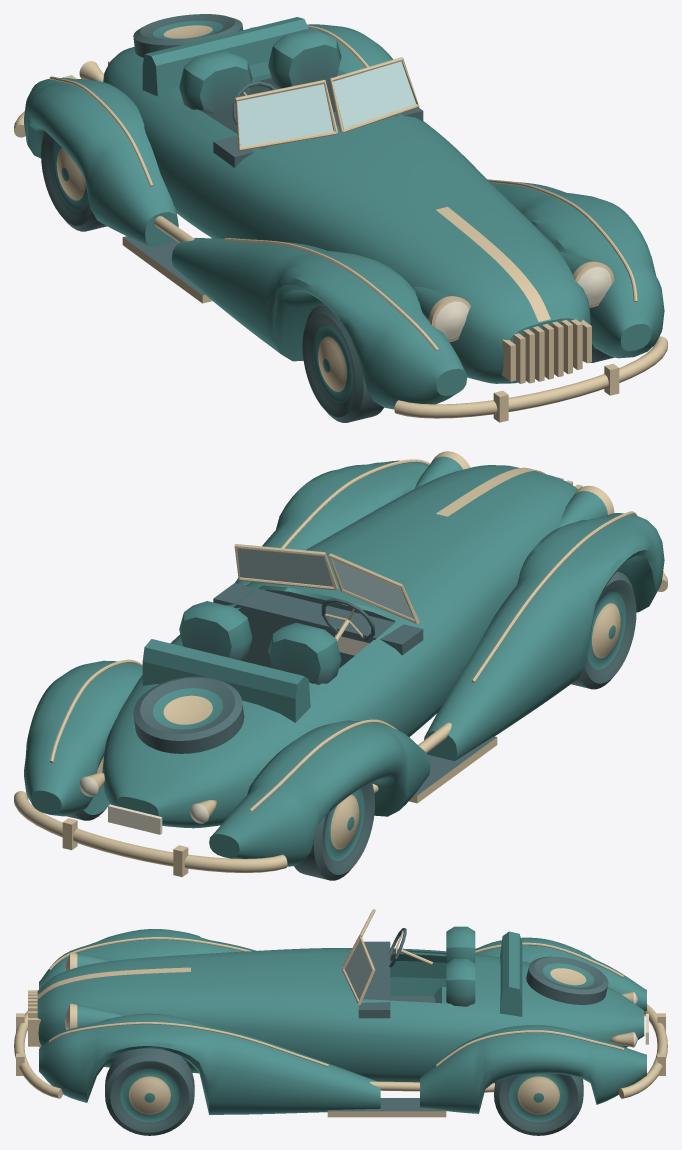
Rendered from KC32__AD_Ext_Car_Roadster.glb.
3 renders of one model, top to bottom at view 1: azimuth 30°, elevation 25°; view 2: azimuth 150°, elevation 25°; view 3: azimuth 270°, elevation 25°, orthographic. The views are drawn at different scales.
Visible parts, largest first — view 1: KC32_CORPS__AD_Ext_Car_Roadster, KC32_BRONZE__AD_Ext_Car_Roadster, KC32_VITRAGE__AD_Ext_Car_Roadster, KC32_LUMIERE__AD_Ext_Car_Roadster; view 2: KC32_CORPS__AD_Ext_Car_Roadster, KC32_BRONZE__AD_Ext_Car_Roadster, KC32_VITRAGE__AD_Ext_Car_Roadster, KC32_LUMIERE__AD_Ext_Car_Roadster; view 3: KC32_CORPS__AD_Ext_Car_Roadster, KC32_BRONZE__AD_Ext_Car_Roadster, KC32_VITRAGE__AD_Ext_Car_Roadster, KC32_LUMIERE__AD_Ext_Car_Roadster.
Part boxes in pixels (<box>): KC32_CORPS__AD_Ext_Car_Roadster: <box>24,14,664,422</box>; KC32_BRONZE__AD_Ext_Car_Roadster: <box>14,25,667,422</box>; KC32_VITRAGE__AD_Ext_Car_Roadster: <box>237,61,415,146</box>; KC32_LUMIERE__AD_Ext_Car_Roadster: <box>108,60,611,339</box>; KC32_CORPS__AD_Ext_Car_Roadster: <box>24,456,664,880</box>; KC32_BRONZE__AD_Ext_Car_Roadster: <box>14,451,667,877</box>; KC32_VITRAGE__AD_Ext_Car_Roadster: <box>237,548,413,618</box>; KC32_LUMIERE__AD_Ext_Car_Roadster: <box>79,635,369,834</box>; KC32_CORPS__AD_Ext_Car_Roadster: <box>37,926,646,1135</box>; KC32_BRONZE__AD_Ext_Car_Roadster: <box>14,909,667,1117</box>; KC32_VITRAGE__AD_Ext_Car_Roadster: <box>344,941,371,999</box>; KC32_LUMIERE__AD_Ext_Car_Roadster: <box>64,955,648,1047</box>.
Size of the model in its own units: 2.12 by 1.26 by 4.96.
